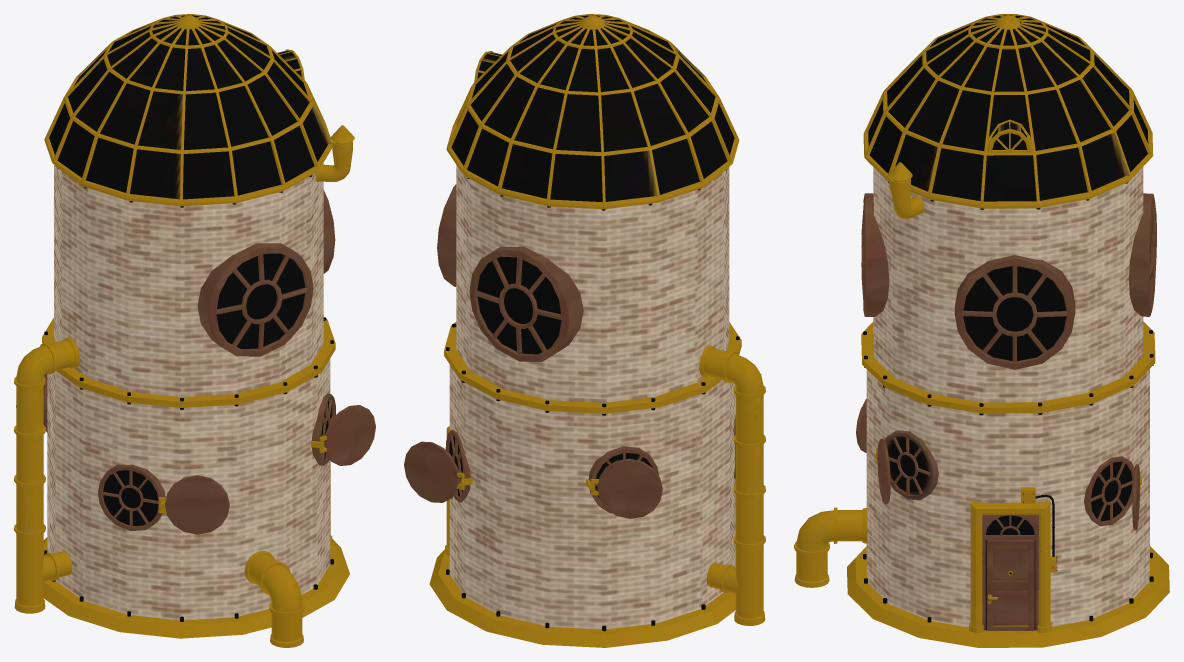
The model's file is BLD_MitoPlant.glb.
3 views of the same model, side by side, from view 1: azimuth 30°, elevation 25°; view 2: azimuth 150°, elevation 25°; view 3: azimuth 270°, elevation 25° (orthographic).
Visible parts, largest first — view 1: Object_4; view 2: Object_4; view 3: Object_4.
Part boxes in pixels (left/top/right/bottom): Object_4: left=14, top=14, right=375, bottom=647; Object_4: left=404, top=14, right=765, bottom=647; Object_4: left=794, top=14, right=1169, bottom=647.
Bounding box in the file's own units: 7.54 × 12.96 × 7.83.
Materials: 1 (1 with a texture image).
